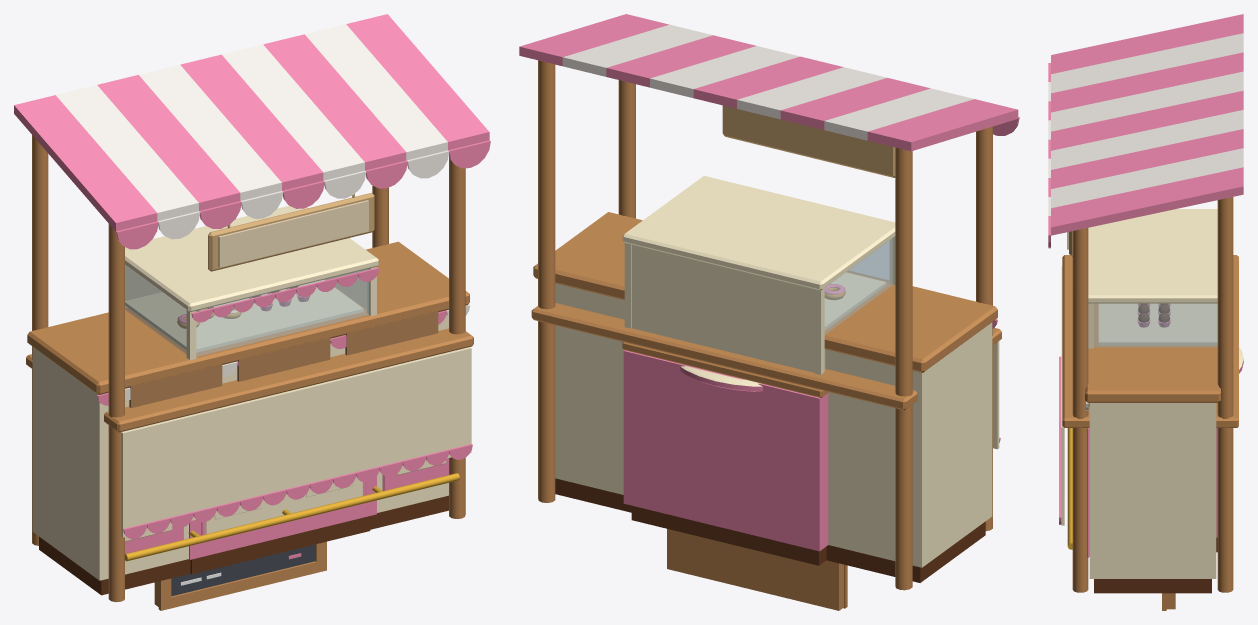
Rendered from casa-cafe.glb.
The picture shows the model from 3 angles, left to right: view 1: azimuth 30°, elevation 25°; view 2: azimuth 150°, elevation 25°; view 3: azimuth 270°, elevation 25°; orthographic projection. The views are drawn at different scales.
Parts seen in each view (by area): view 1: cafe-banca-feira, cafe-balcao, cafe-vitrine-doces, cafe-lousa-cardapio; view 2: cafe-vitrine-doces, cafe-banca-feira, cafe-balcao, cafe-lousa-cardapio, cafe-mesa-redonda; view 3: cafe-banca-feira, cafe-balcao, cafe-vitrine-doces.
Boxes of the visible parts, x1,y1,x2,y2 form: cafe-banca-feira: [14, 14, 490, 602]; cafe-balcao: [27, 241, 469, 595]; cafe-vitrine-doces: [125, 206, 379, 574]; cafe-lousa-cardapio: [154, 541, 326, 610]; cafe-vitrine-doces: [622, 176, 895, 565]; cafe-banca-feira: [519, 14, 1019, 590]; cafe-balcao: [533, 212, 997, 582]; cafe-lousa-cardapio: [667, 529, 847, 610]; cafe-mesa-redonda: [680, 366, 762, 391]; cafe-banca-feira: [1048, 14, 1243, 592]; cafe-balcao: [1067, 303, 1220, 593]; cafe-vitrine-doces: [1088, 209, 1217, 552].
Size of the model in its own units: 1.8 by 2.3 by 0.862.
